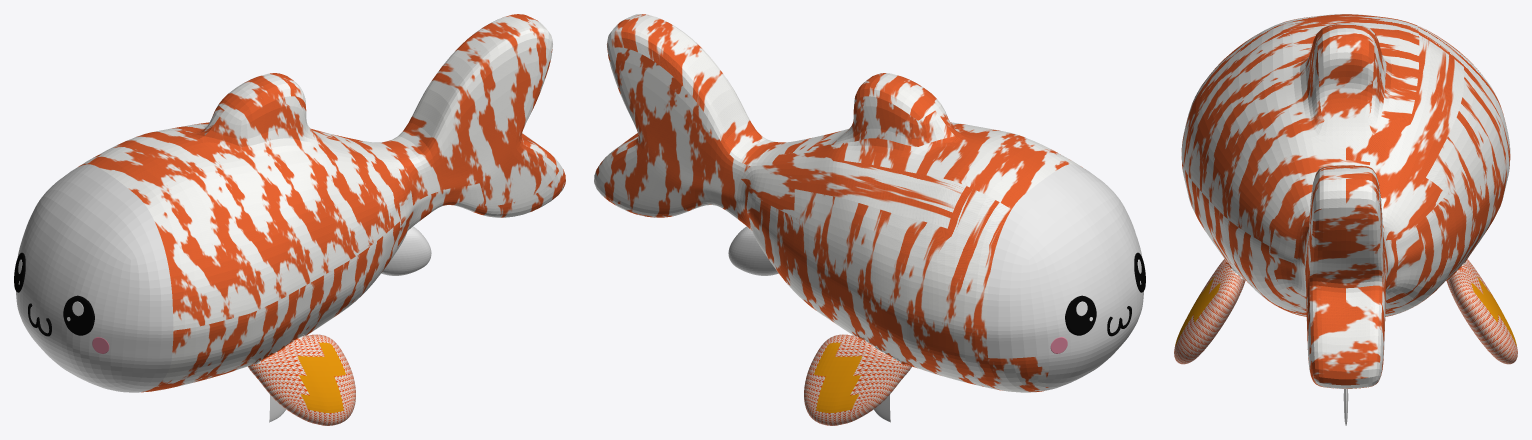
Rendered from 06-30_Koifish.glb.
The picture shows the model from 3 angles, left to right: view 1: azimuth 30°, elevation 25°; view 2: azimuth 150°, elevation 25°; view 3: azimuth 270°, elevation 25°; orthographic projection. The views are drawn at different scales.
Parts seen in each view (by area): view 1: Body, Finn R, Finn, Eye; view 2: Body, Finn R, Finn, Eye; view 3: Body, Finn R.
Boxes of the visible parts, bbox=[...] form: Body: bbox=[16, 14, 565, 392]; Finn R: bbox=[248, 334, 355, 425]; Finn: bbox=[381, 226, 431, 275]; Eye: bbox=[14, 252, 94, 335]; Body: bbox=[594, 14, 1143, 392]; Finn R: bbox=[804, 334, 911, 425]; Finn: bbox=[728, 226, 778, 275]; Eye: bbox=[1065, 252, 1145, 335]; Body: bbox=[1181, 14, 1510, 388]; Finn R: bbox=[1174, 259, 1517, 364].
Size of the model in its own units: 33.21 by 21.04 by 16.59.
7 materials, 2 textured.
